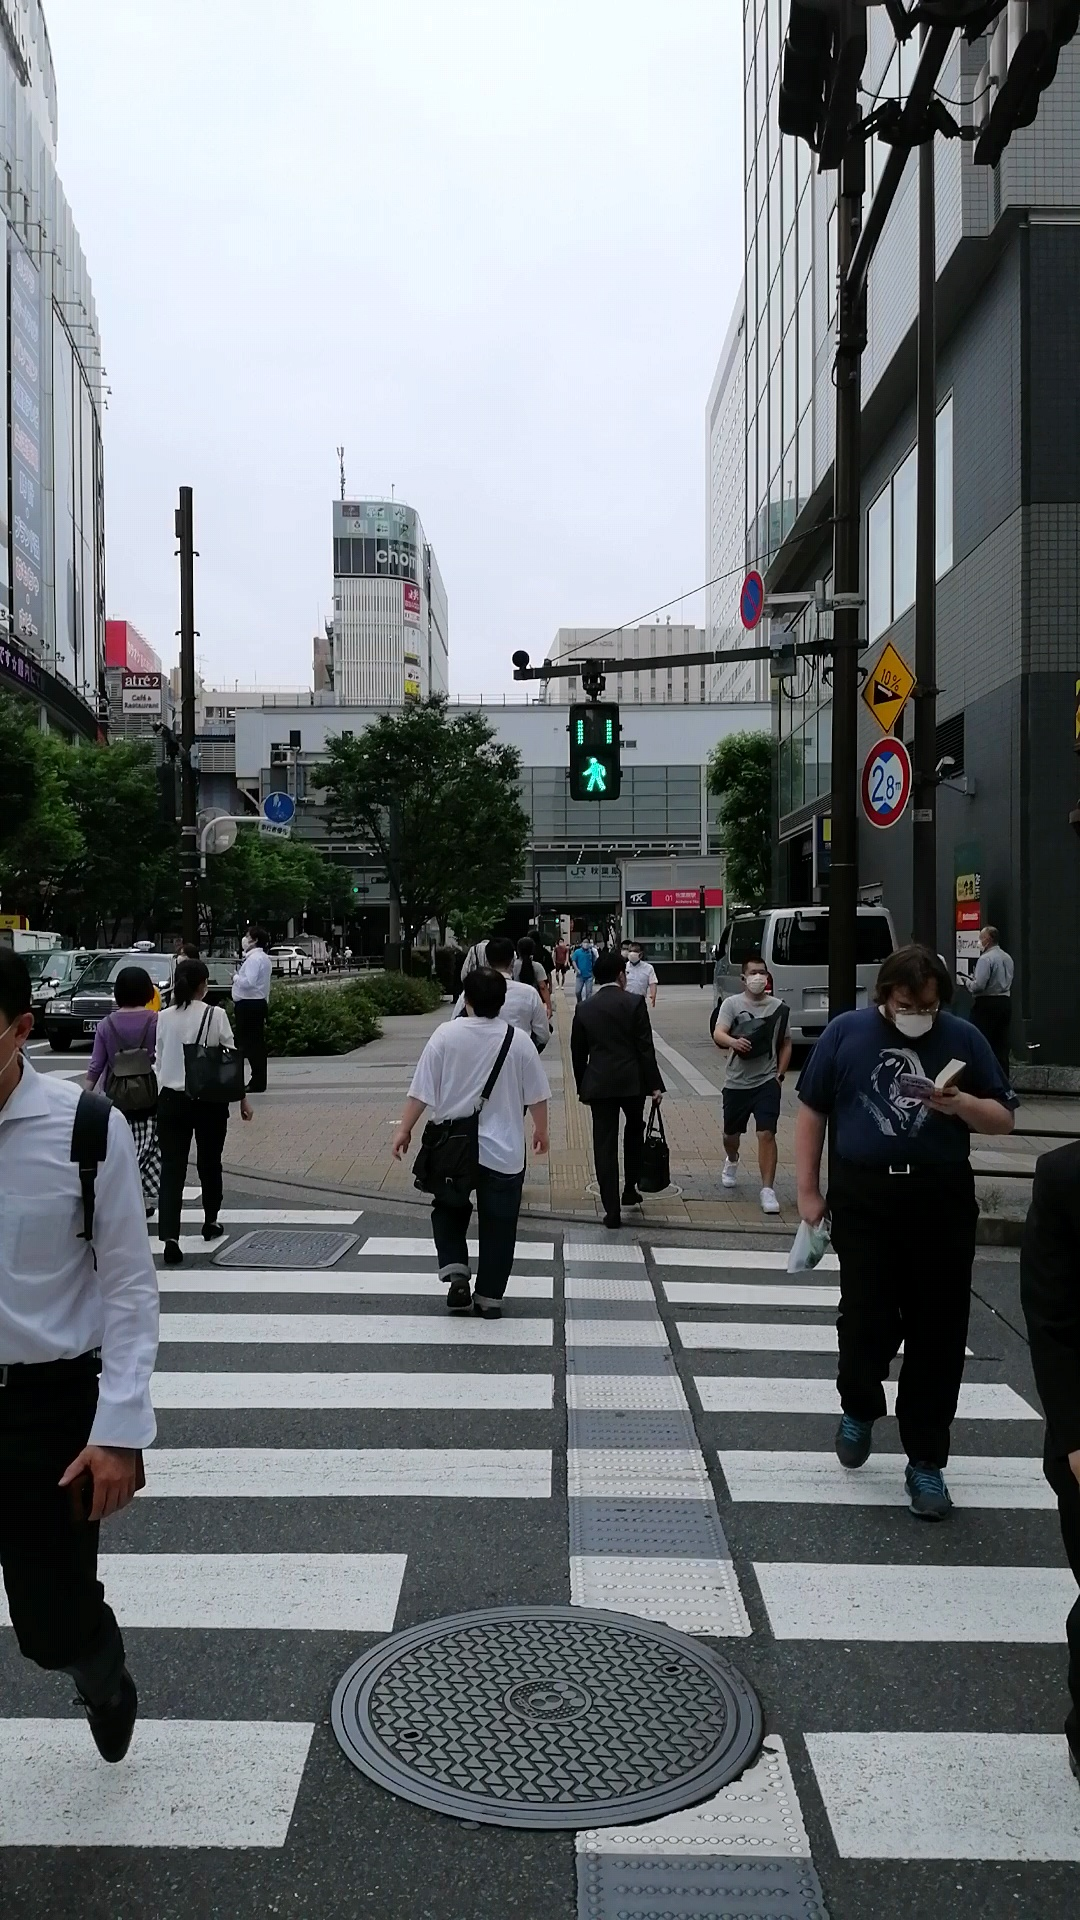green: (568, 702, 621, 800)
